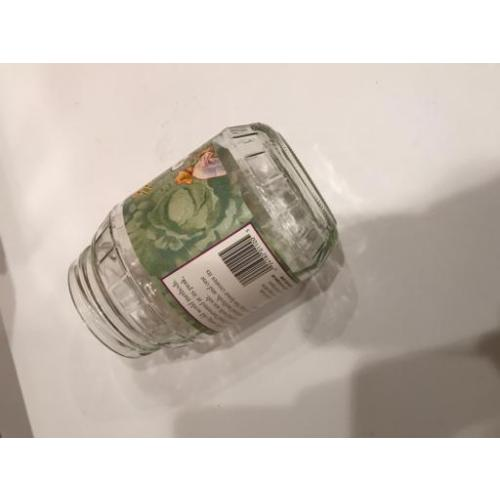glass: (76, 134, 328, 358)
